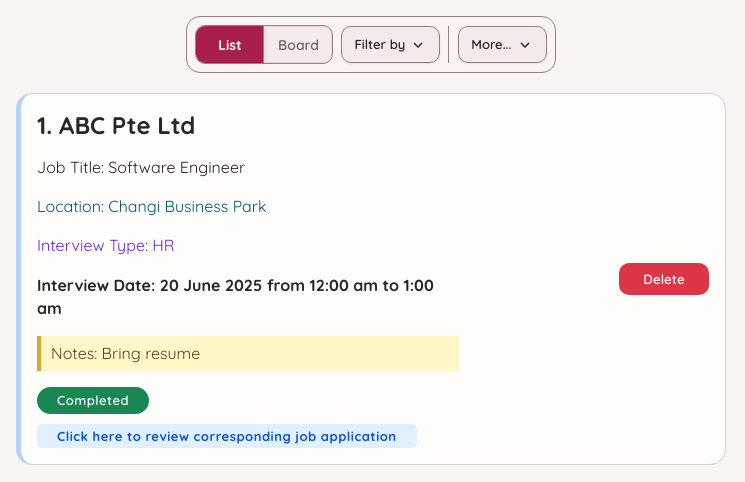
it: Job interview viewer flow › deletes all interviews after user confirms
expect the heading "1. ABC Pte Ltd" is shown: met, box x1=37 y1=110 x2=195 y2=140
Click the button "More...".
click(502, 44)  # box x1=458 y1=26 x2=547 y2=63
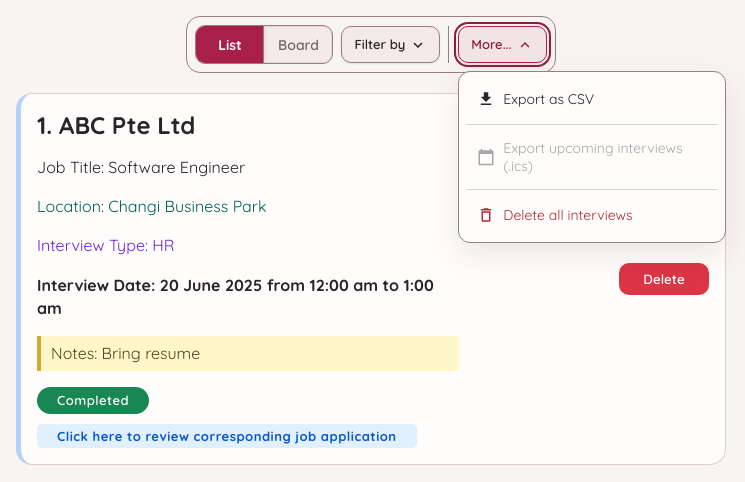
Click the button "Delete all interviews".
click(592, 215)  # box x1=467 y1=196 x2=717 y2=234
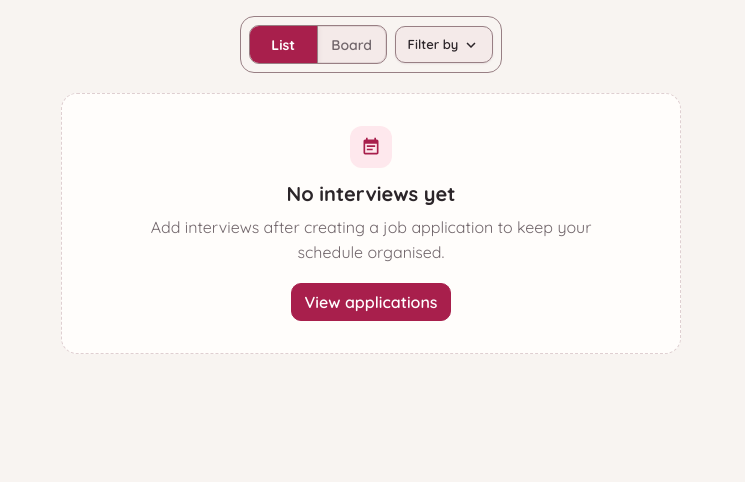
expect the heading "ABC Pte Ltd" is gone: met
